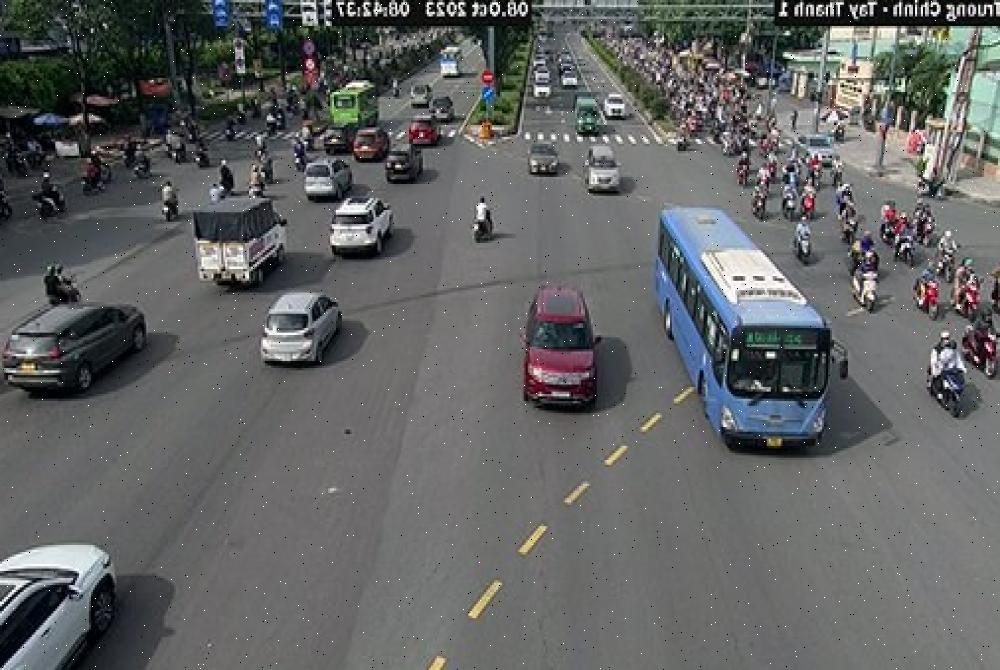bus: (654, 198, 852, 471), (324, 68, 386, 128)
car: (0, 498, 129, 670), (2, 292, 155, 404), (516, 278, 611, 405), (243, 282, 343, 388), (322, 192, 396, 270), (372, 132, 429, 193), (301, 152, 345, 222), (581, 134, 622, 204), (514, 137, 561, 190), (353, 122, 391, 170), (398, 110, 438, 155)
truck: (190, 182, 293, 298)
